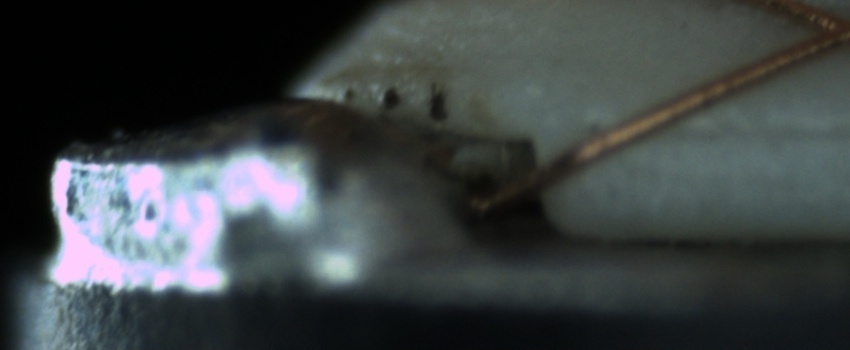CL: (780, 1, 849, 64)
DL: (647, 97, 848, 164)
